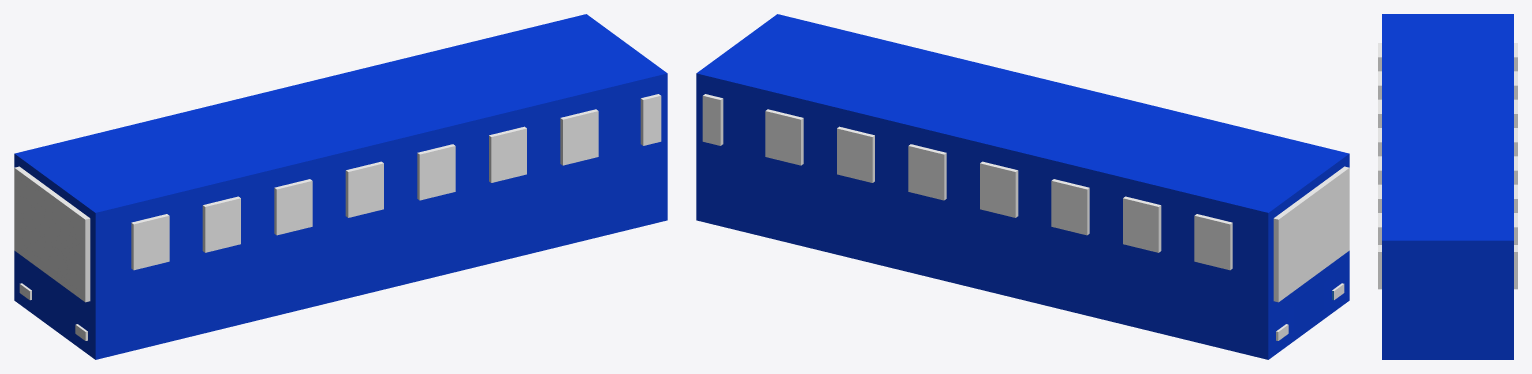
The model's file is Bus.fbx.
The picture shows the model from 3 angles, left to right: view 1: azimuth 30°, elevation 25°; view 2: azimuth 150°, elevation 25°; view 3: azimuth 270°, elevation 25°; orthographic projection. The views are drawn at different scales.
Visible parts, largest first — view 1: Cube; view 2: Cube; view 3: Cube.
Part boxes in pixels (x1,y1,x2,y2): Cube: (14,14,667,359); Cube: (696,14,1349,359); Cube: (1378,14,1517,359).
Size of the model in its own units: 822 by 200 by 212.
